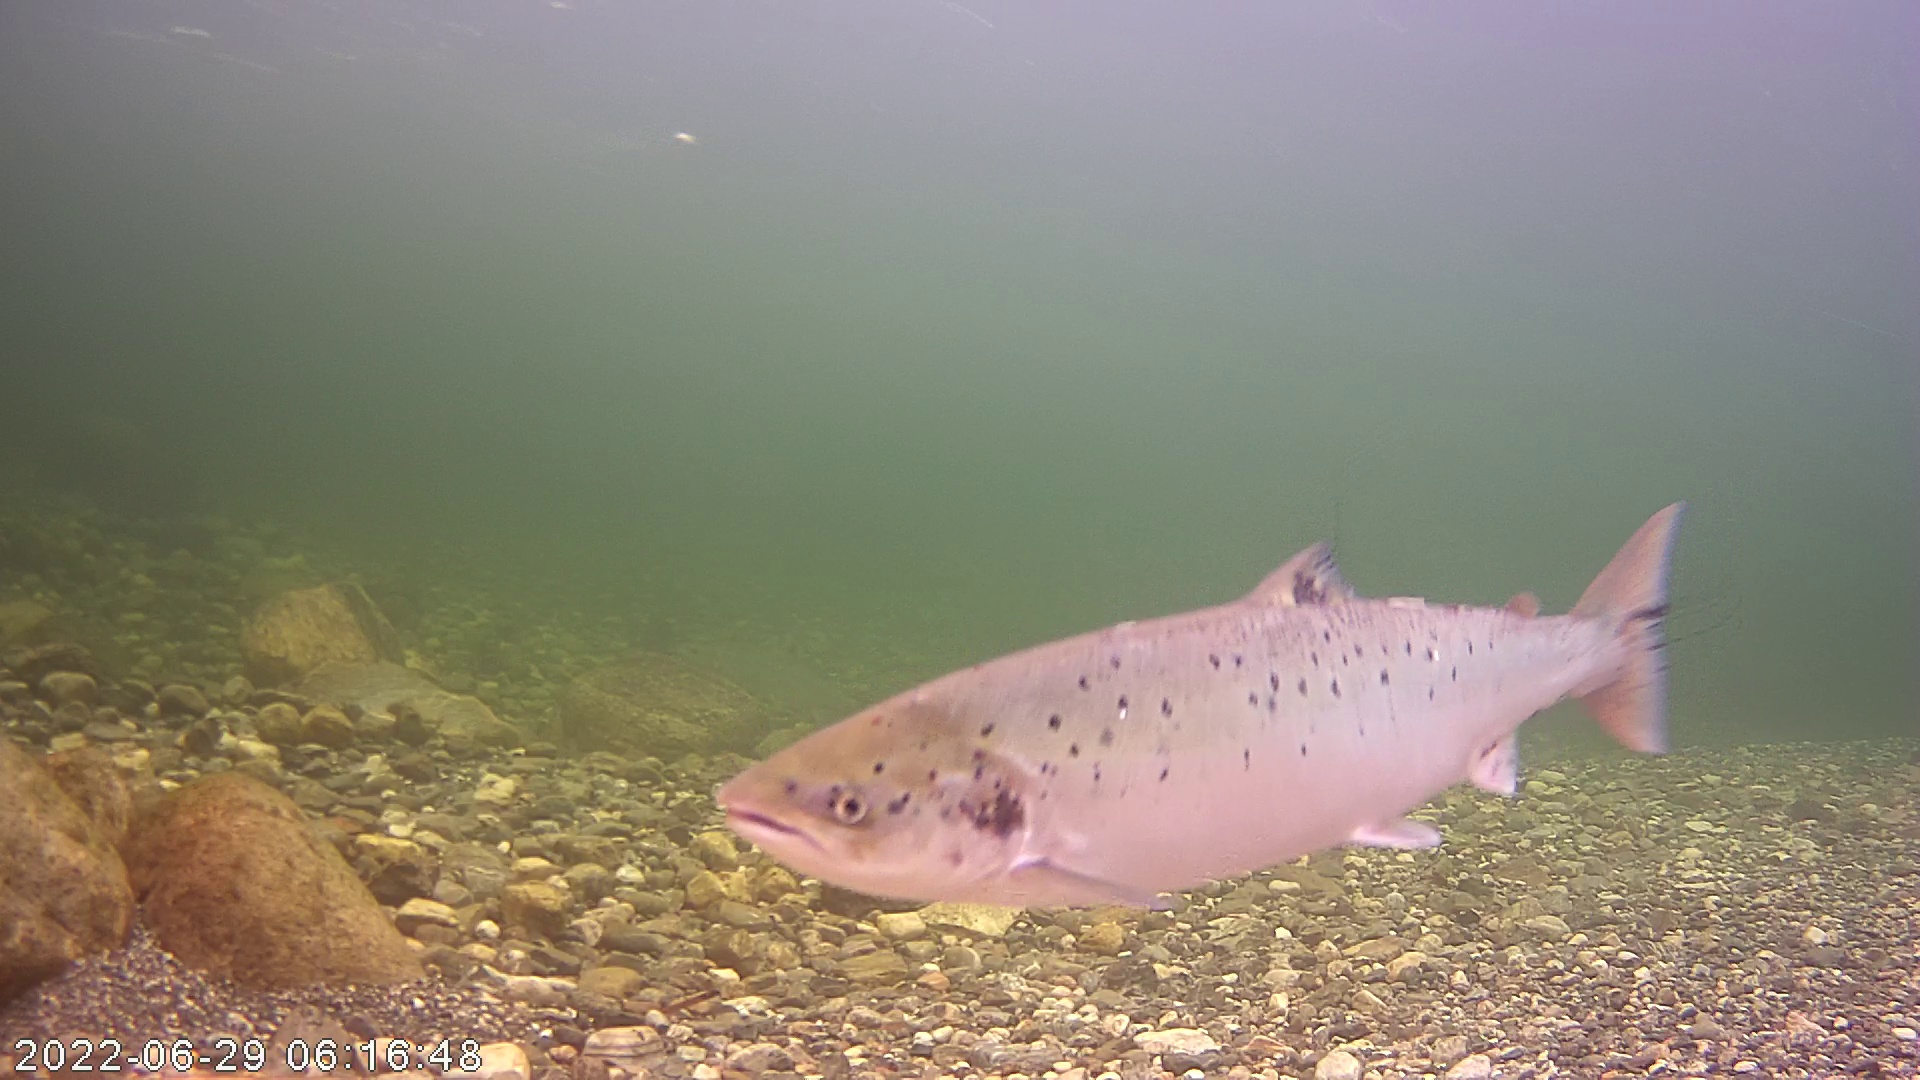salmon: (727, 433, 1684, 915)
